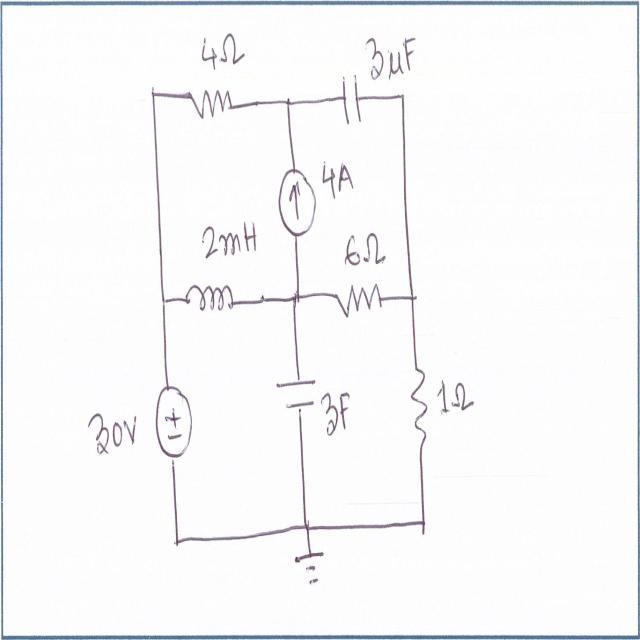capacitor: (275, 372, 320, 418), (338, 64, 364, 136)
current_source: (274, 163, 317, 239)
ground: (290, 544, 328, 598)
inductor: (185, 282, 238, 327)
resistor: (404, 367, 433, 456), (336, 275, 385, 324), (187, 84, 237, 126)
voltage_source: (153, 385, 194, 467)
